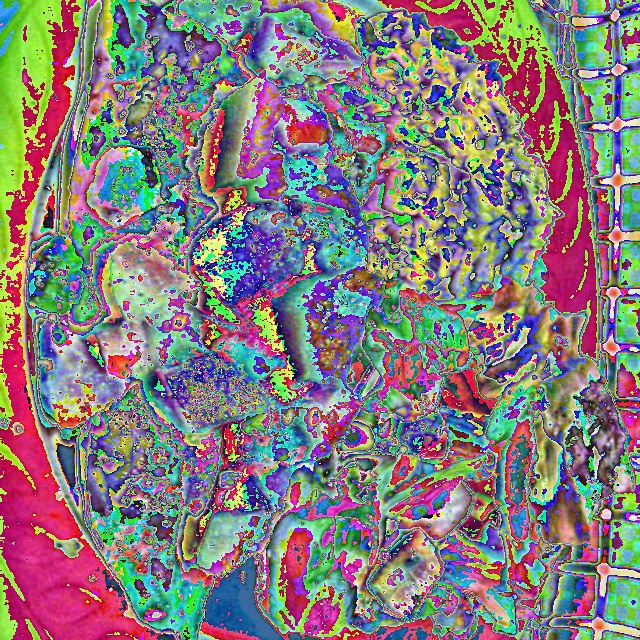background: (28, 0, 637, 640)
